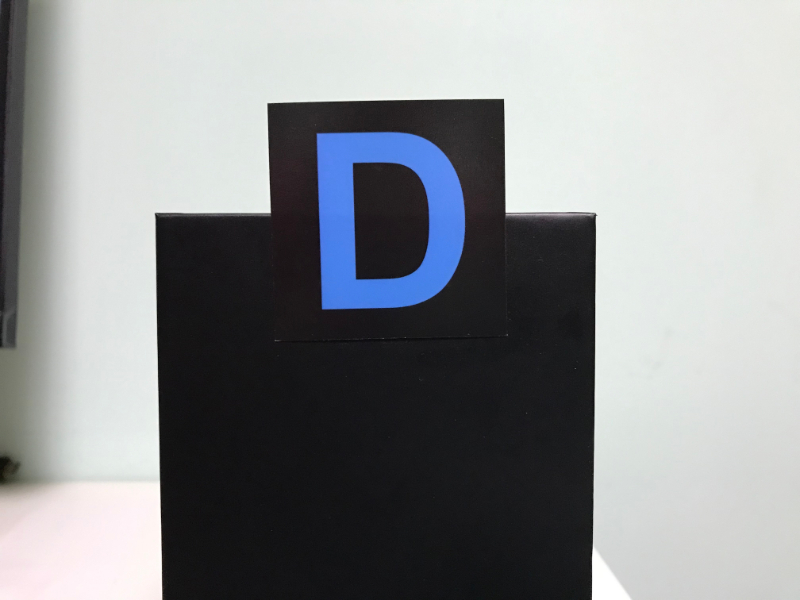D-14: (276, 106, 503, 334)
